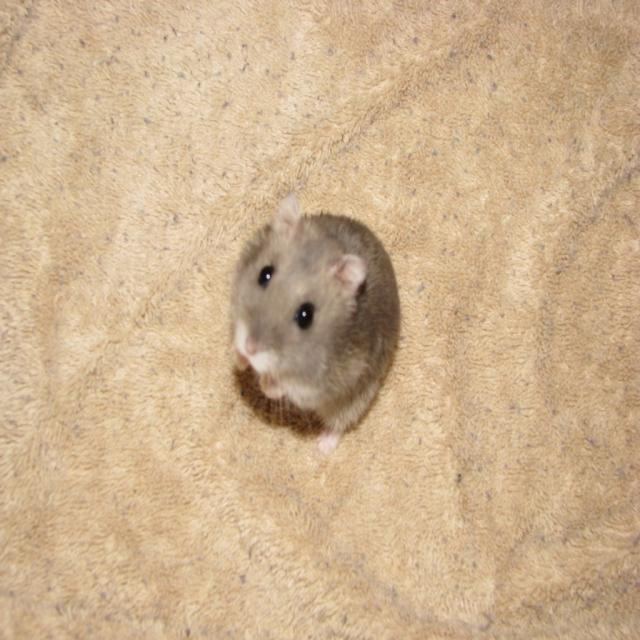rat: (226, 202, 401, 450)
